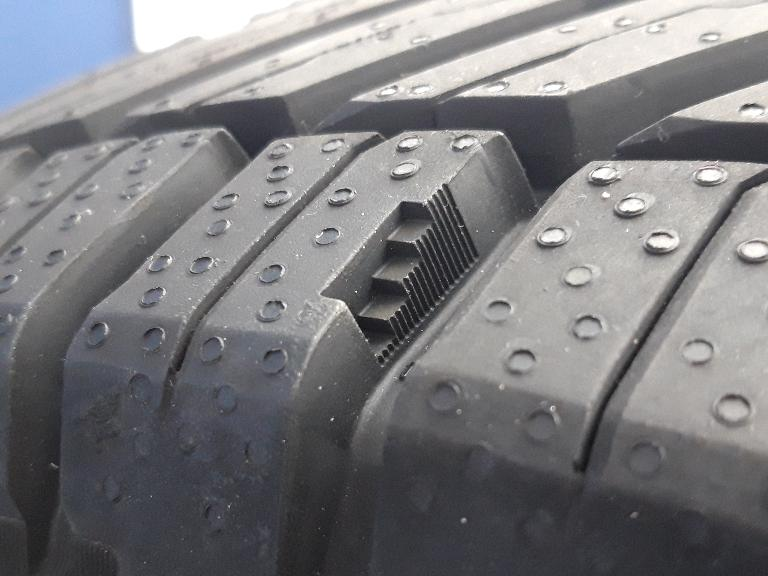temoin:100: (311, 177, 492, 376)
